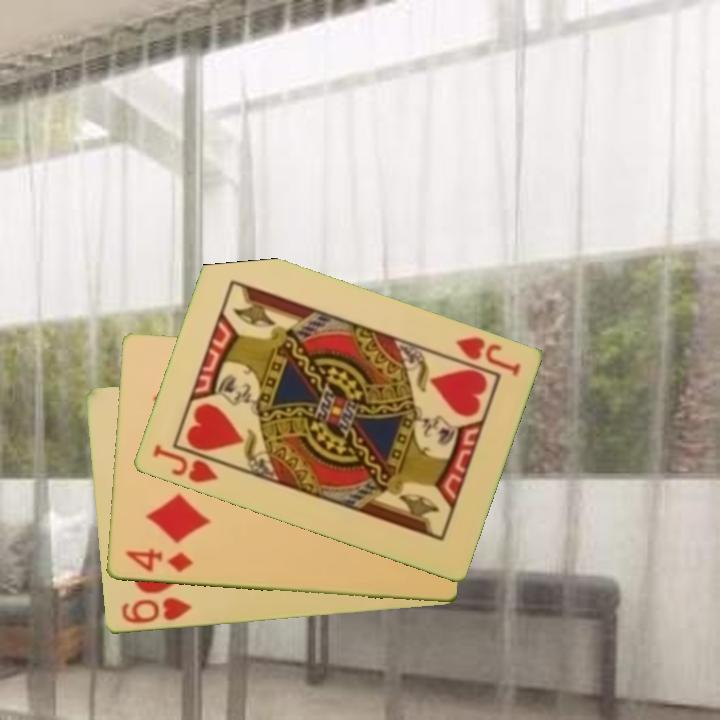4d: (122, 545, 195, 575)
6h: (117, 594, 195, 627)
Jh: (451, 333, 523, 380), (148, 440, 220, 486)
